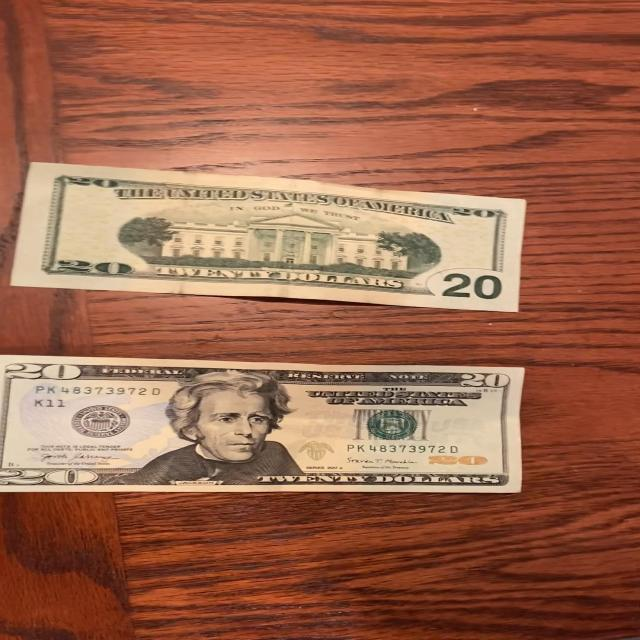20-Back: (0, 162, 536, 314)
20-Front: (0, 353, 530, 495)
